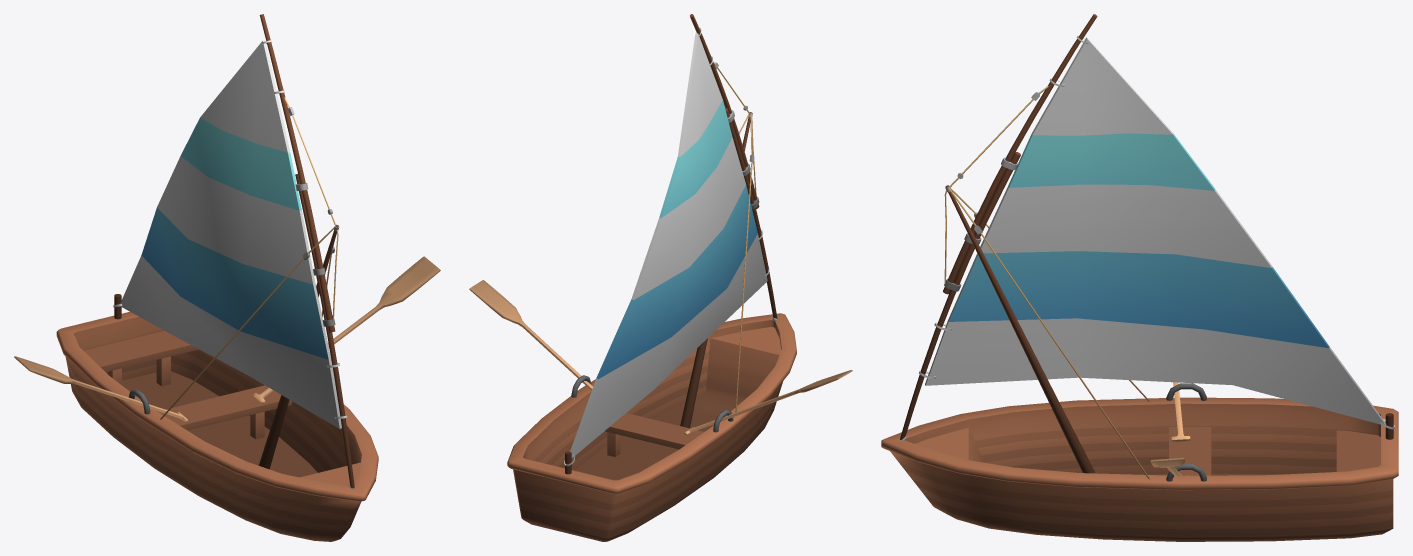
Rendered from fishing boat sail.fbx.
3 views of the same model, side by side, from view 1: azimuth 30°, elevation 25°; view 2: azimuth 150°, elevation 25°; view 3: azimuth 270°, elevation 25° (orthographic). The views are drawn at different scales.
Visible parts, largest first — view 1: fishing_boat_sail, fishing_boat_with_sail_l, fishing_boat_with_sail_r; view 2: fishing_boat_sail, fishing_boat_with_sail_l, fishing_boat_with_sail_r; view 3: fishing_boat_sail.
Part boxes in pixels (box(x1,y1,x2,y2)): fishing_boat_sail: box(56, 14, 378, 541); fishing_boat_with_sail_l: box(253, 256, 440, 403); fishing_boat_with_sail_r: box(14, 356, 188, 422); fishing_boat_sail: box(507, 14, 796, 541); fishing_boat_with_sail_l: box(469, 280, 592, 390); fishing_boat_with_sail_r: box(684, 370, 852, 434); fishing_boat_sail: box(881, 14, 1398, 541).
Bounding box in the file's own units: 423 × 467 × 439.
Materials: 1 (1 with a texture image).
